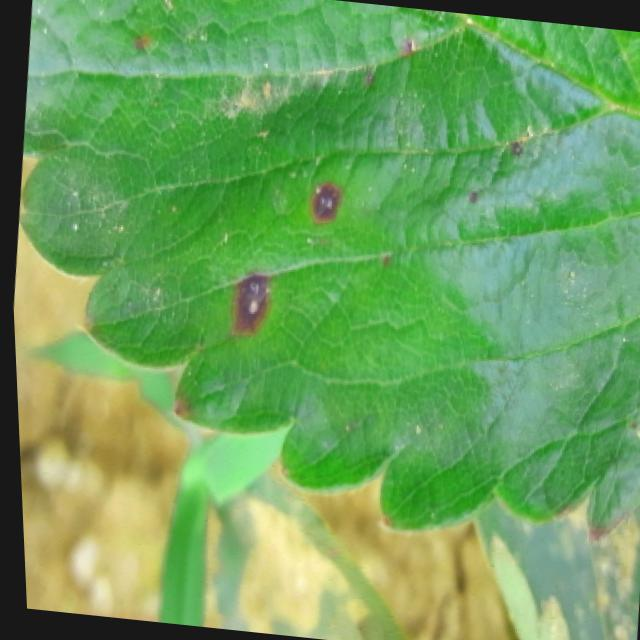Leaf Spot: (16, 0, 640, 546)
